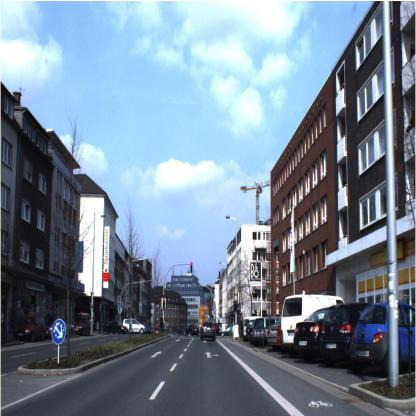mandatory: (48, 317, 68, 348)
